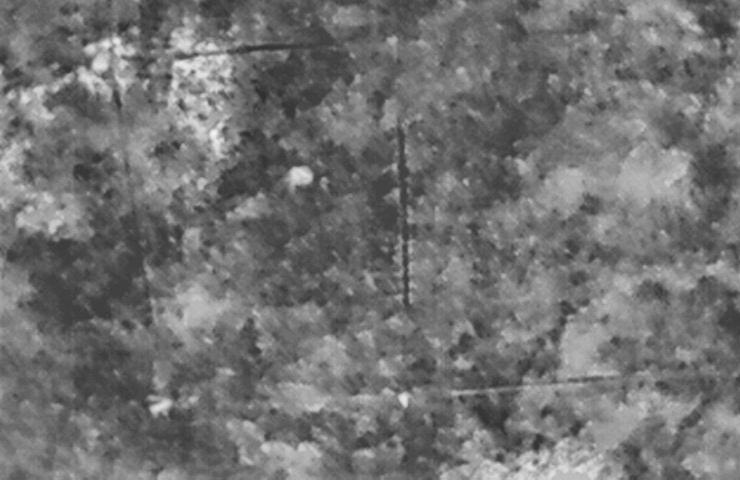landmines: (283, 162, 318, 197)
